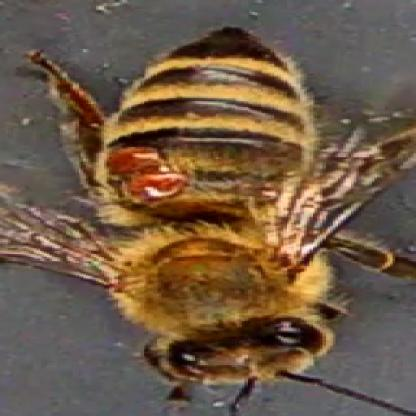bee: (88, 22, 346, 390)
vaoora: (102, 145, 157, 174), (133, 174, 187, 197)
